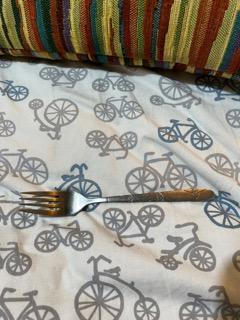fork: (18, 188, 216, 219)
